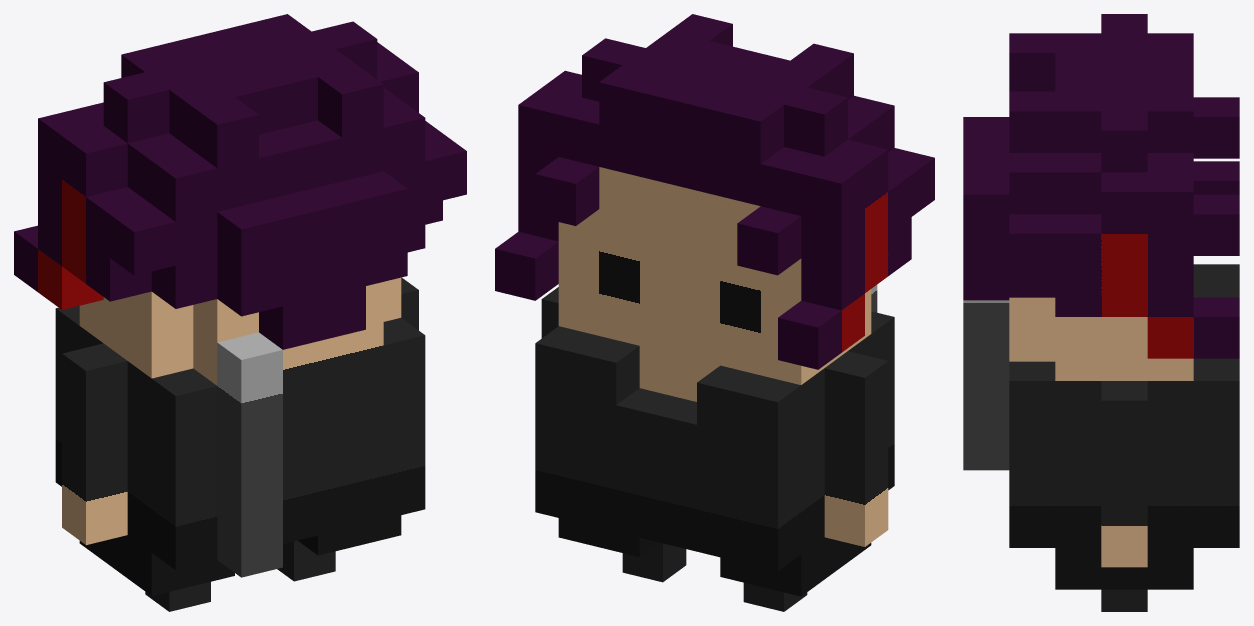
The model's file is chr_brookie.dae.
3 views of the same model, side by side, from view 1: azimuth 30°, elevation 25°; view 2: azimuth 150°, elevation 25°; view 3: azimuth 270°, elevation 25° (orthographic). The views are drawn at different scales.
Visible parts, largest first — view 1: chr_brookie; view 2: chr_brookie; view 3: chr_brookie.
Boxes of the visible parts, x1,y1,x2,y2 form: chr_brookie: [14, 14, 466, 611]; chr_brookie: [495, 14, 934, 611]; chr_brookie: [963, 14, 1239, 611].
Bounding box in the file's own units: 0.8 × 0.6 × 1.2.
